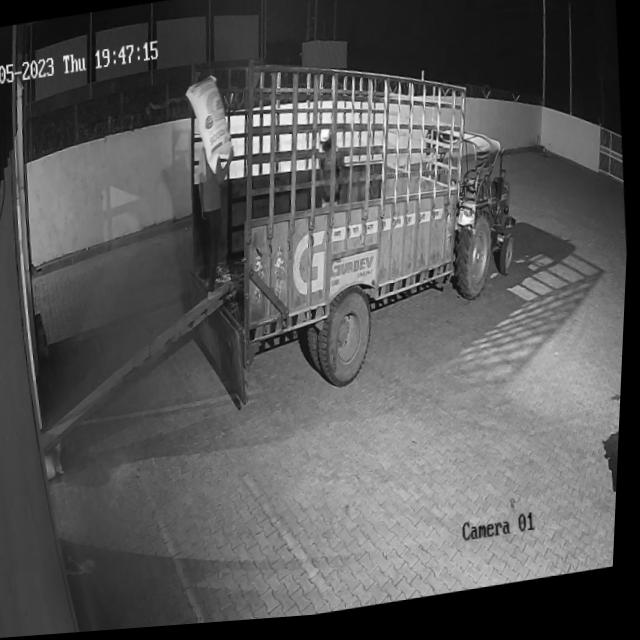sack: (182, 75, 238, 181)
